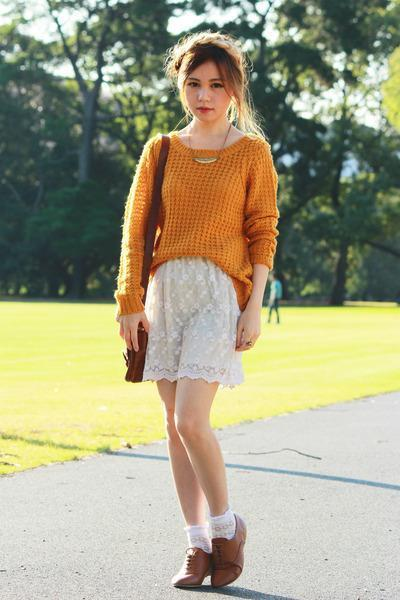bag: (124, 156, 167, 382)
jacket: (117, 135, 278, 314)
shoe: (174, 519, 245, 595)
skirt: (142, 258, 244, 387)
